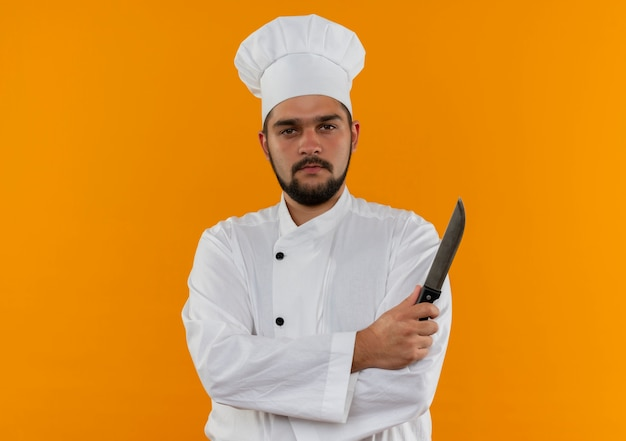knife: (412, 197, 465, 308)
